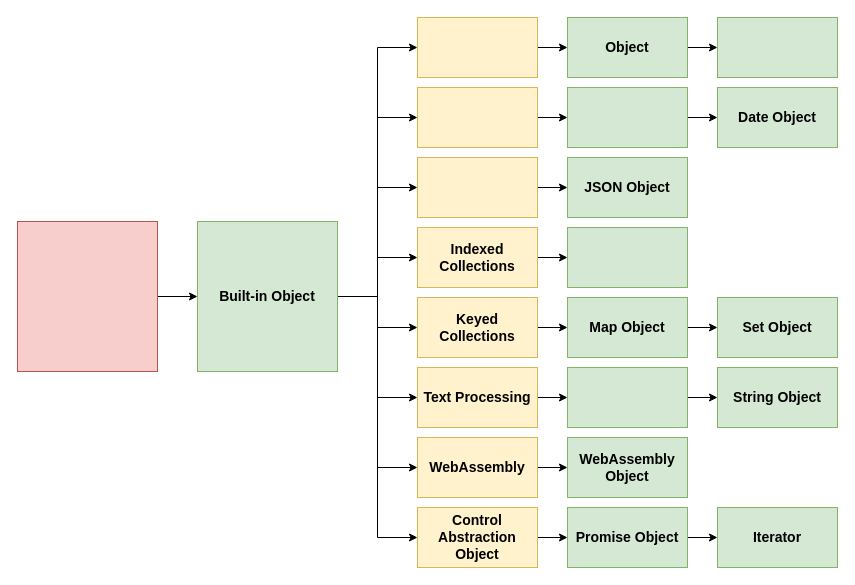
This 855x585 diagram has some shape labels left out. The shapes that lost their labels are listed below. From the top down, each one's box as (x1, y1, x2, y2) in pixels, then its label:
(416, 16, 538, 78): Fundamental Object
(716, 16, 838, 78): Function
(416, 86, 538, 148): Number & Dates
(566, 86, 688, 148): Math Object
(416, 156, 538, 218): Structured Data
(566, 226, 688, 288): Array Object
(16, 220, 158, 372): Web Browser Javascript Engine
(566, 366, 688, 428): RegExp Object
